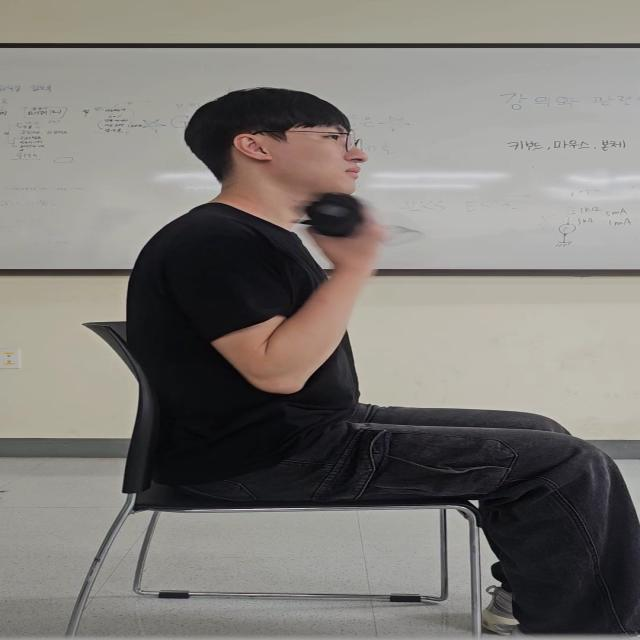curl: (138, 186, 402, 399)
